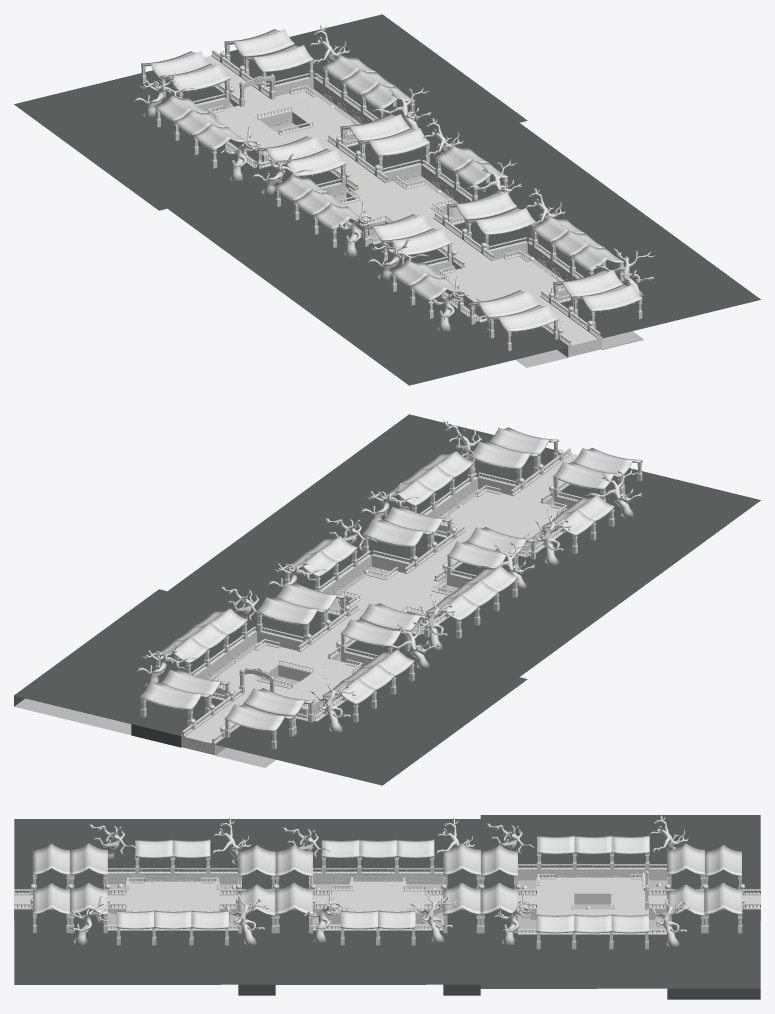
The model's file is lvl1_world1.fbx.
3 views of the same model, one above another, from view 1: azimuth 30°, elevation 25°; view 2: azimuth 150°, elevation 25°; view 3: azimuth 270°, elevation 25° (orthographic). The views are drawn at different scales.
Parts seen in each view (by area): view 1: Plane.000, Plane.022, Plane.021, Plane.041, Plane.007, Cube.001, Circle.016, Cube.932, Cube.897, Cube.913, Cube.950, Cube.904 (+3 smaller); view 2: Plane.022, Plane.000, Plane.021, Plane.041, Plane.007, Cube.001, Circle.016, Cube.932, Cube.897, Cube.913, Cube.949, Cube.904 (+2 smaller); view 3: Plane.022, Plane.000, Plane.021, Plane.041, Plane.007, Cube.001, Circle.016, Cube.932, Cube.897, Cube.913, Plane.072, Cube.949 (+10 smaller).
Part boxes in pixels (x1,y1,x2,y2): Plane.000: (274, 200, 760, 385); Plane.022: (14, 14, 527, 210); Plane.021: (167, 122, 625, 286); Plane.041: (155, 55, 624, 318); Plane.007: (159, 29, 622, 337); Cube.001: (141, 45, 642, 351); Circle.016: (134, 25, 654, 331); Cube.932: (212, 91, 357, 165); Cube.897: (443, 256, 568, 318); Cube.913: (344, 181, 453, 235); Cube.950: (534, 291, 602, 357); Cube.904: (427, 213, 495, 269); Plane.022: (14, 589, 527, 785); Plane.000: (274, 414, 760, 599); Plane.021: (168, 513, 625, 676); Plane.041: (155, 451, 614, 722); Plane.007: (140, 441, 623, 735); Cube.001: (162, 427, 642, 749); Circle.016: (137, 421, 643, 732); Cube.932: (212, 645, 358, 718); Cube.897: (436, 491, 562, 554); Cube.913: (339, 572, 448, 625); Cube.949: (181, 689, 248, 755); Cube.904: (403, 526, 472, 582); Plane.022: (480, 815, 760, 999); Plane.000: (14, 819, 275, 995); Plane.021: (275, 819, 480, 995); Plane.041: (116, 835, 649, 949); Plane.007: (70, 843, 742, 933); Cube.001: (33, 843, 741, 933); Circle.016: (70, 815, 692, 947); Cube.932: (536, 877, 648, 932); Cube.897: (126, 881, 219, 928); Cube.913: (331, 881, 424, 923); Plane.072: (518, 880, 667, 932); Cube.949: (648, 883, 760, 919).
Size of the model in its own units: 22000 by 3174 by 40024.
